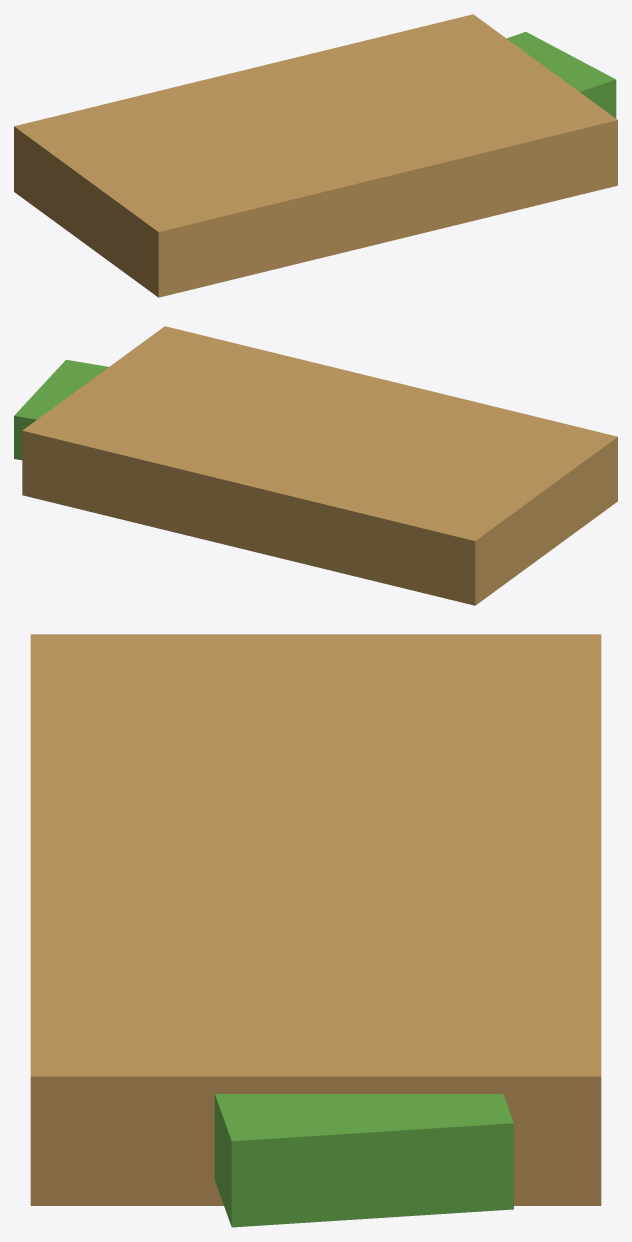
File: rink_money_envelope.glb
The picture shows the model from 3 angles, top to bottom: view 1: azimuth 30°, elevation 25°; view 2: azimuth 150°, elevation 25°; view 3: azimuth 270°, elevation 25°; orthographic projection. The views are drawn at different scales.
Parts seen in each view (by area): view 1: envelope_envelope_brown, bills_bills_green; view 2: envelope_envelope_brown, bills_bills_green; view 3: envelope_envelope_brown, bills_bills_green.
Part boxes in pixels (x1=…): envelope_envelope_brown: x1=14, y1=14, x2=617, y2=297; bills_bills_green: x1=506, y1=32, x2=616, y2=118; envelope_envelope_brown: x1=22, y1=326, x2=617, y2=605; bills_bills_green: x1=14, y1=359, x2=108, y2=460; envelope_envelope_brown: x1=30, y1=634, x2=601, y2=1205; bills_bills_green: x1=214, y1=1094, x2=513, y2=1227.
Bounding box in the file's own units: 0.2436 × 0.03 × 0.12.
